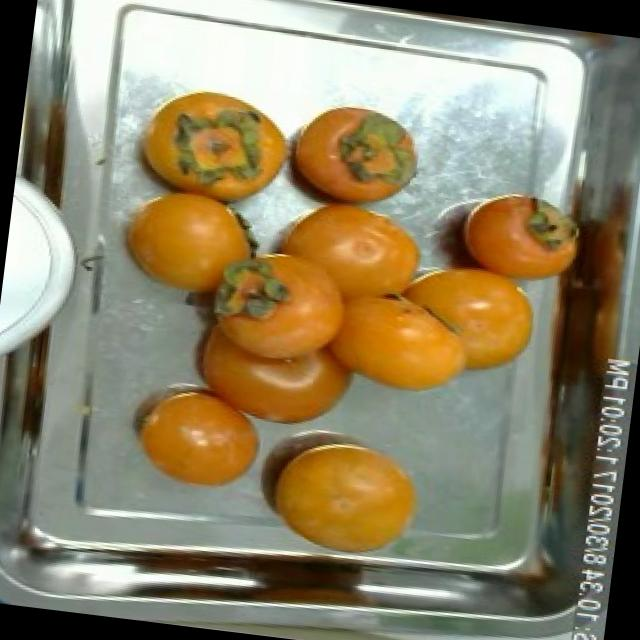Fruit: (160, 270, 386, 447), (96, 165, 276, 332), (238, 185, 446, 322), (252, 420, 438, 564), (382, 247, 554, 389), (116, 365, 282, 505), (134, 75, 302, 211), (269, 88, 436, 222), (413, 174, 592, 298)
